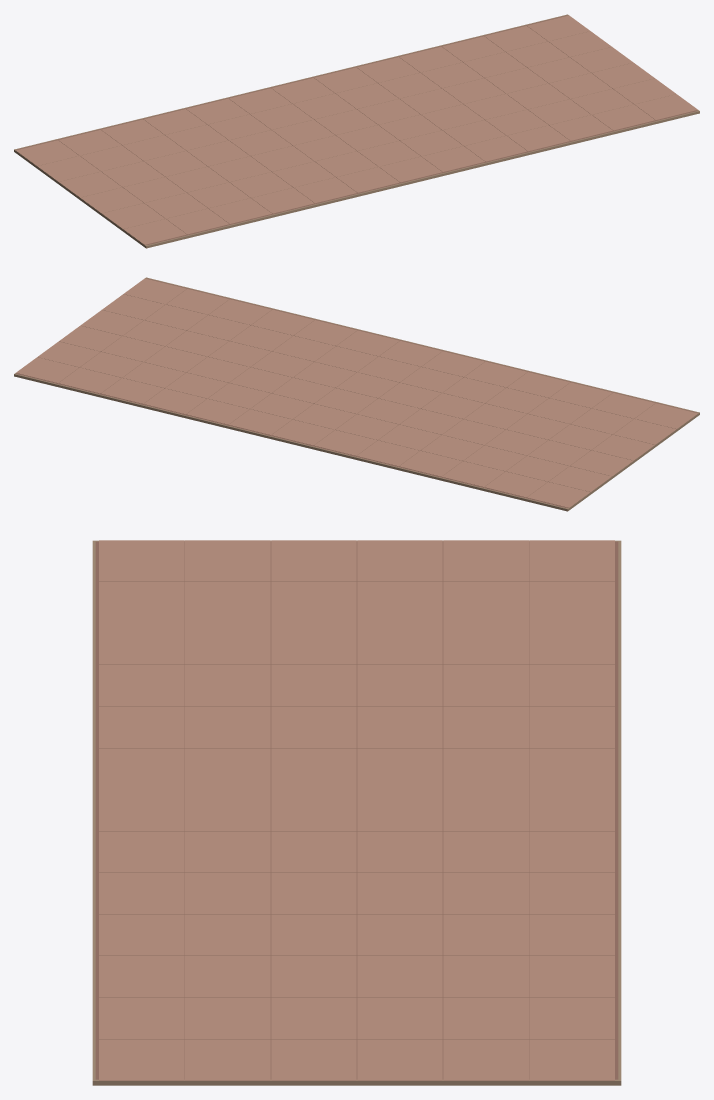
Rendered from KOL_T1_DAKSHINESHWAR__01_Campus.fbx.
3 renders of one model, top to bottom at view 1: azimuth 30°, elevation 25°; view 2: azimuth 150°, elevation 25°; view 3: azimuth 270°, elevation 25°, orthographic. The views are drawn at different scales.
Visible parts, largest first — view 1: KOL_T1_DAKSHINESHWAR__01_Campus__KOL_T1_TemplePaving, KOL_T1_DAKSHINESHWAR__01_Campus__KOL_T1_TempleStone, KOL_T1_DAKSHINESHWAR__01_Campus__KOL_T1_TempleJoint; view 2: KOL_T1_DAKSHINESHWAR__01_Campus__KOL_T1_TemplePaving, KOL_T1_DAKSHINESHWAR__01_Campus__KOL_T1_TempleStone, KOL_T1_DAKSHINESHWAR__01_Campus__KOL_T1_TempleJoint; view 3: KOL_T1_DAKSHINESHWAR__01_Campus__KOL_T1_TemplePaving, KOL_T1_DAKSHINESHWAR__01_Campus__KOL_T1_TempleJoint, KOL_T1_DAKSHINESHWAR__01_Campus__KOL_T1_TempleStone.
Part boxes in pixels (x1,y1,x2,y2): KOL_T1_DAKSHINESHWAR__01_Campus__KOL_T1_TemplePaving: [16, 15, 697, 244]; KOL_T1_DAKSHINESHWAR__01_Campus__KOL_T1_TempleStone: [14, 14, 699, 248]; KOL_T1_DAKSHINESHWAR__01_Campus__KOL_T1_TempleJoint: [16, 15, 697, 245]; KOL_T1_DAKSHINESHWAR__01_Campus__KOL_T1_TemplePaving: [16, 278, 697, 507]; KOL_T1_DAKSHINESHWAR__01_Campus__KOL_T1_TempleStone: [14, 277, 699, 511]; KOL_T1_DAKSHINESHWAR__01_Campus__KOL_T1_TempleJoint: [16, 278, 697, 508]; KOL_T1_DAKSHINESHWAR__01_Campus__KOL_T1_TemplePaving: [99, 540, 614, 1080]; KOL_T1_DAKSHINESHWAR__01_Campus__KOL_T1_TempleJoint: [95, 541, 618, 1079]; KOL_T1_DAKSHINESHWAR__01_Campus__KOL_T1_TempleStone: [92, 540, 621, 1085].
Bounding box in the file's own units: 416 × 1.8 × 172.
